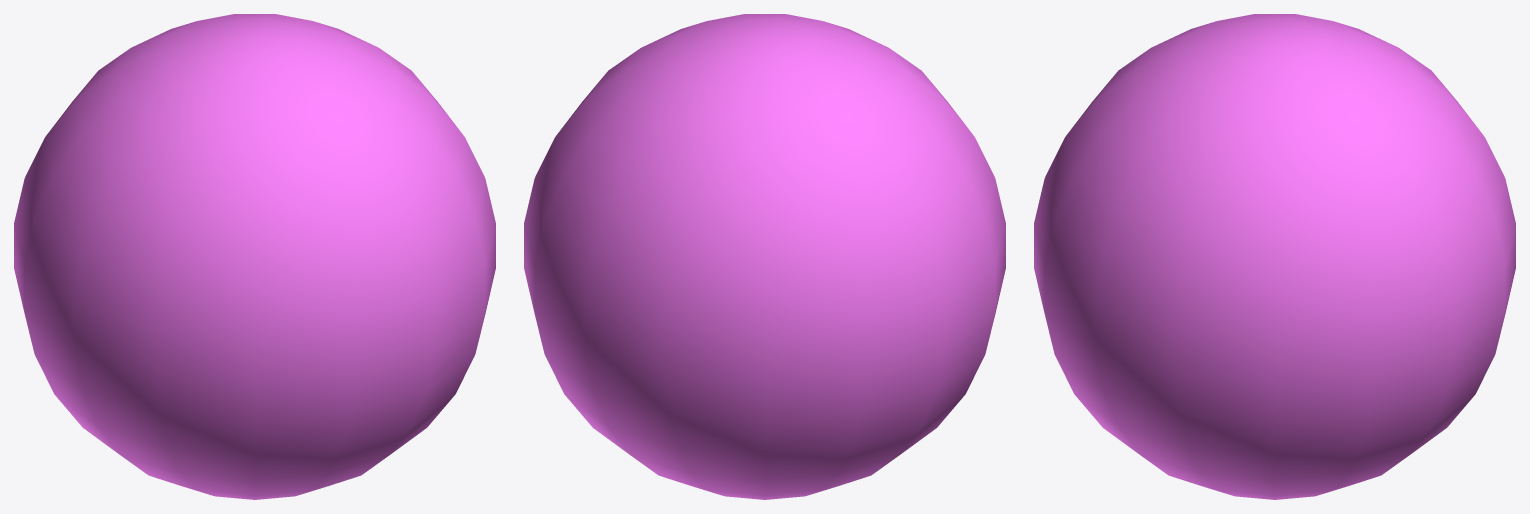
File: planet_low 1.fbx
The picture shows the model from 3 angles, left to right: view 1: azimuth 30°, elevation 25°; view 2: azimuth 150°, elevation 25°; view 3: azimuth 270°, elevation 25°; orthographic projection.
Visible parts, largest first — view 1: outlinerPlanet4; view 2: outlinerPlanet4; view 3: outlinerPlanet4.
Boxes of the visible parts, box(x1,y1,x2,y2) form: outlinerPlanet4: box(14, 14, 495, 499); outlinerPlanet4: box(524, 14, 1005, 499); outlinerPlanet4: box(1034, 14, 1515, 499).
Bounding box in the file's own units: 0.794 × 0.8072 × 0.7984.
